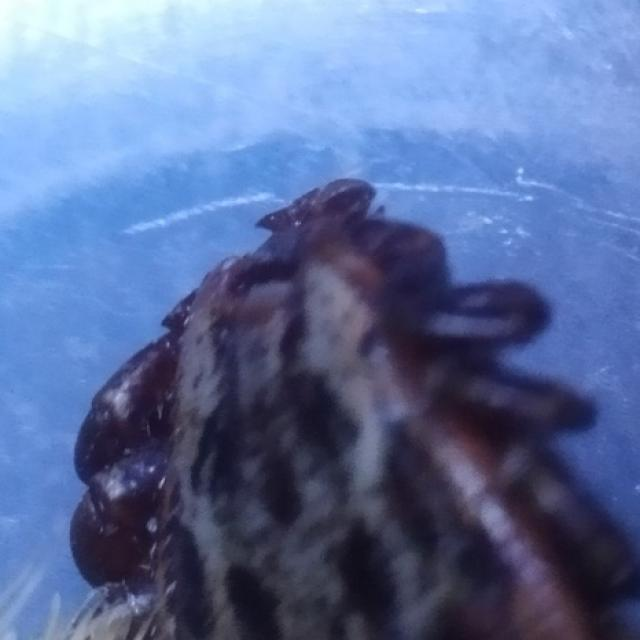Dermacentor Reticulatus-M: (69, 179, 640, 640)
